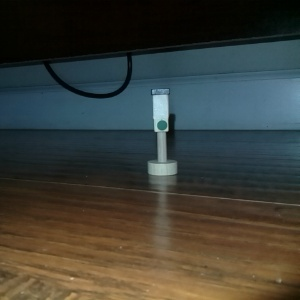traffic light green: (145, 86, 179, 178)
